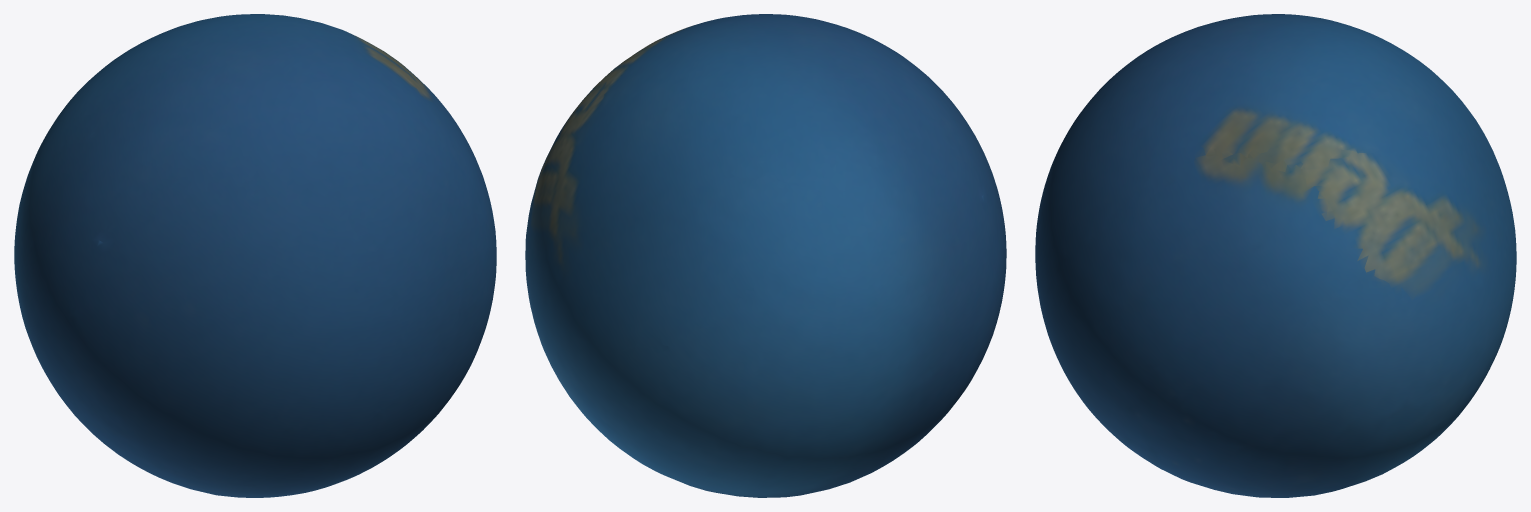
Rendered from textured_simplified.obj.
3 renders of one model, left to right at view 1: azimuth 30°, elevation 25°; view 2: azimuth 150°, elevation 25°; view 3: azimuth 270°, elevation 25°, orthographic.
Bounding box in the file's own units: 0.0558 × 0.0561 × 0.0556.
Materials: 1 (1 with a texture image).
